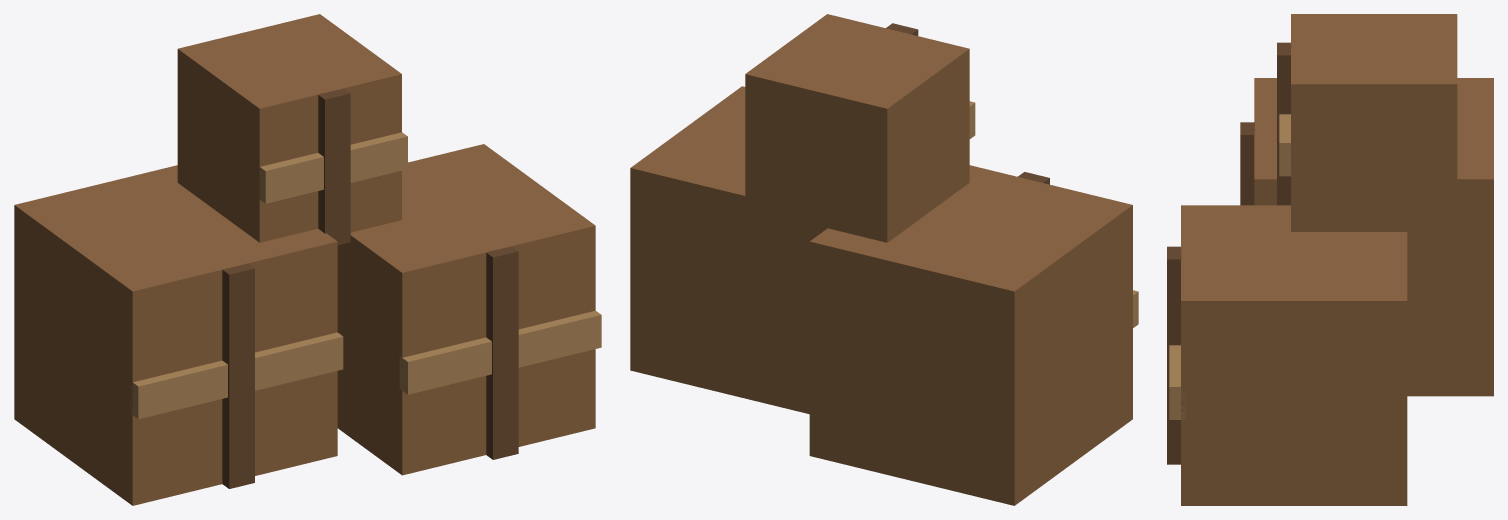
3 views of the same model, side by side, from view 1: azimuth 30°, elevation 25°; view 2: azimuth 150°, elevation 25°; view 3: azimuth 270°, elevation 25° (orthographic).
Parts seen in each view (by area): view 1: H10_木箱货垛; view 2: H10_木箱货垛; view 3: H10_木箱货垛.
Boxes of the visible parts, left/top/right/bottom form: H10_木箱货垛: left=14, top=14, right=601, bottom=505; H10_木箱货垛: left=630, top=14, right=1138, bottom=505; H10_木箱货垛: left=1167, top=14, right=1493, bottom=505.
Bounding box in the file's own units: 0.75 × 0.585 × 0.491.
